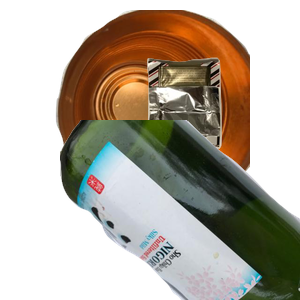glass: (60, 120, 300, 300)
metal: (53, 10, 293, 190)
plastic: (98, 176, 266, 300)
trash: (144, 55, 300, 197)
